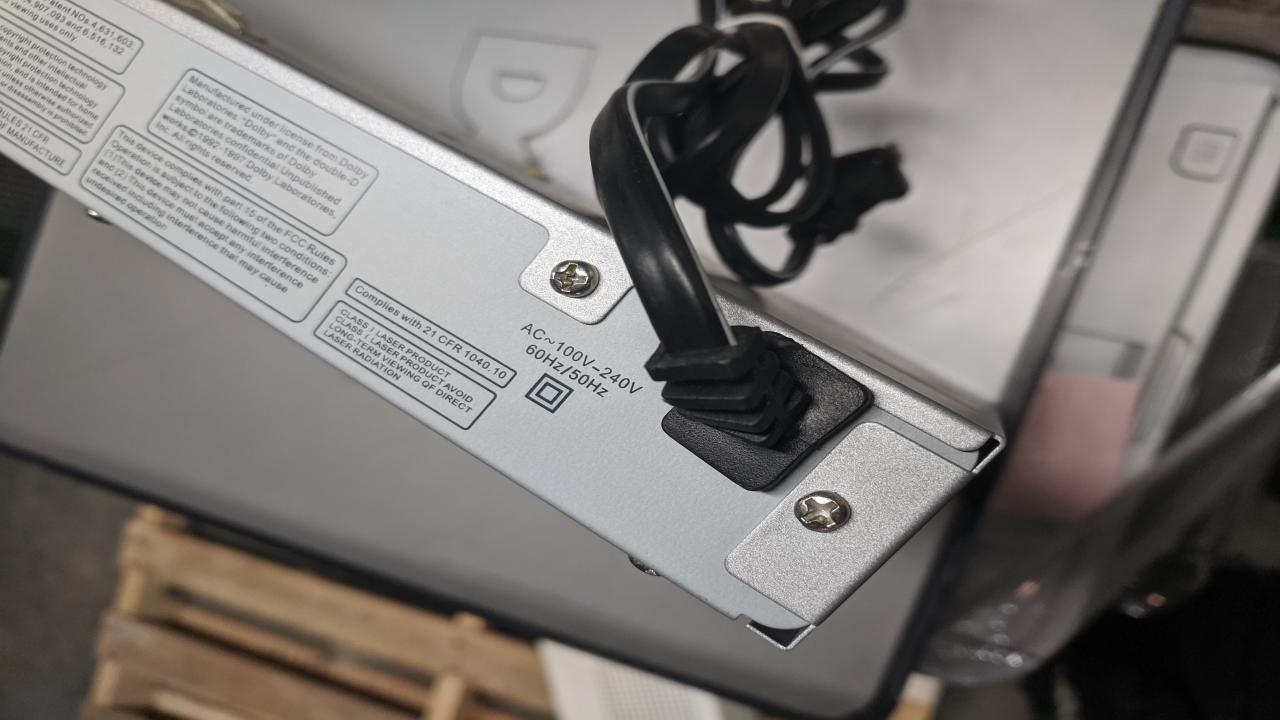CRS: (789, 490, 851, 535), (544, 262, 604, 299)
